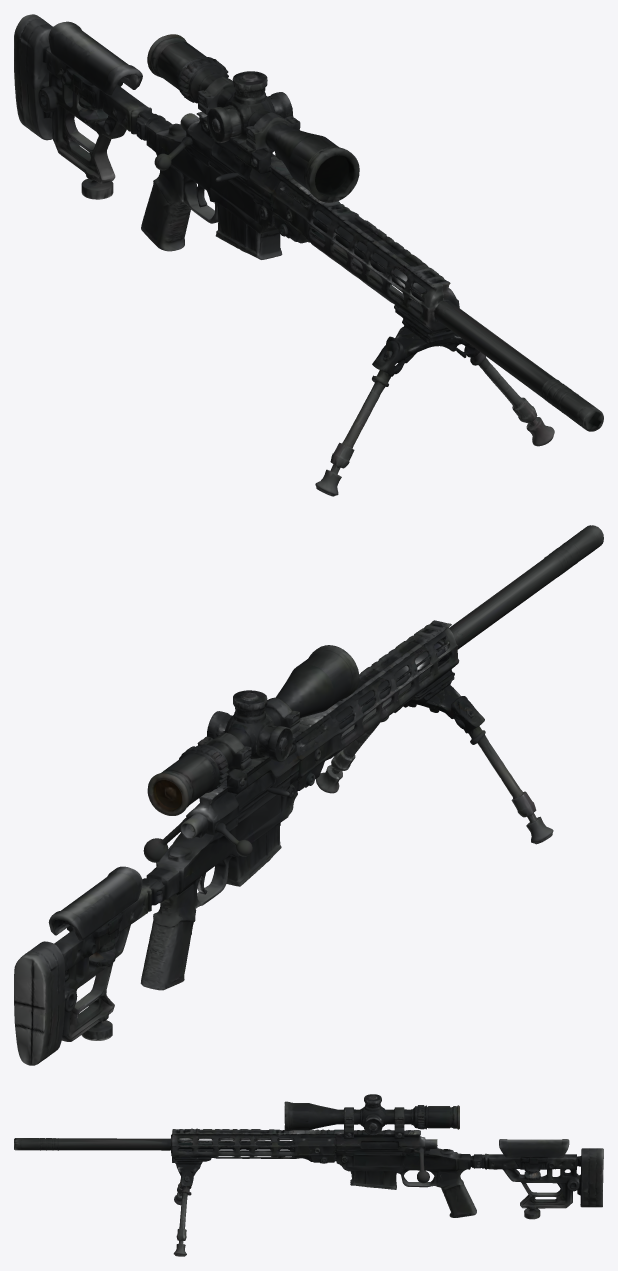
Rendered from Hi3D_Realistic Bolt-Action Sniper Rifle 3D Model_allparts_20260824_124724-optimized.glb.
3 renders of one model, top to bottom at view 1: azimuth 30°, elevation 25°; view 2: azimuth 150°, elevation 25°; view 3: azimuth 270°, elevation 25°, orthographic. The views are drawn at different scales.
Visible parts, largest first — view 1: geometry_0; view 2: geometry_0; view 3: geometry_0.
Part boxes in pixels (x1,y1,x2,y2): geometry_0: (14,14,603,496); geometry_0: (14,525,603,1065); geometry_0: (14,1094,603,1256).
Size of the model in its own units: 0.2389 by 0.2502 by 1.
1 material, 1 textured.
